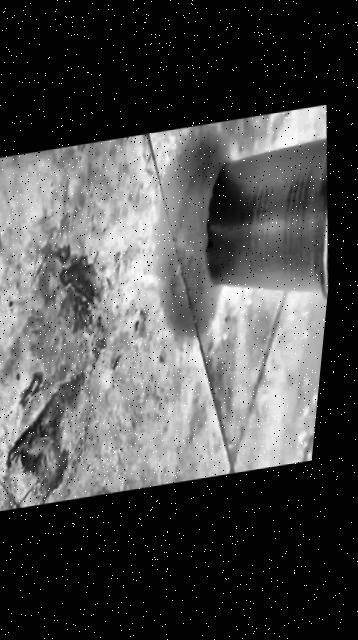pot: (190, 124, 344, 319)
